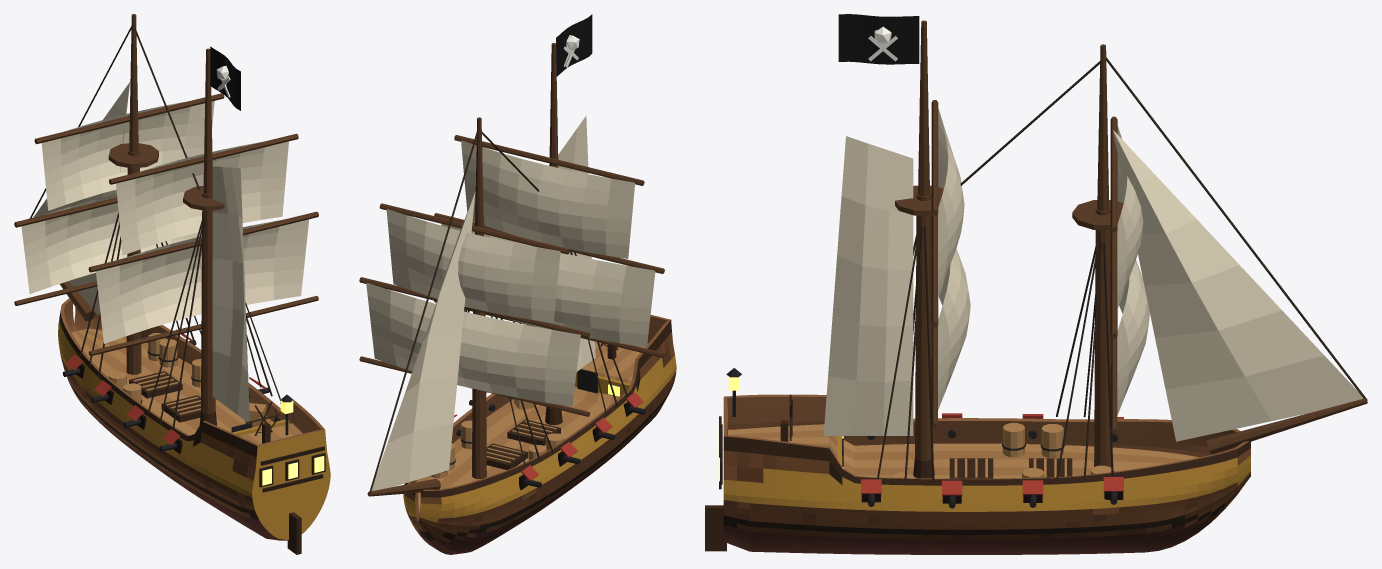
Rendered from brigantine.glb.
The picture shows the model from 3 angles, left to right: view 1: azimuth 30°, elevation 25°; view 2: azimuth 150°, elevation 25°; view 3: azimuth 270°, elevation 25°; orthographic projection. The views are drawn at different scales.
Visible parts, largest first — view 1: Hull, Sail_1_0, Sail_1_1, Sail_0_1, Sail_spanker, Sail_0_0, Sail_jib, Flag; view 2: Hull, Sail_0_0, Sail_1_1, Sail_0_1, Sail_jib, Sail_1_0, Flag, Sail_spanker; view 3: Hull, Sail_jib, Sail_spanker, Flag, Sail_1_0, Sail_1_1, Sail_0_0, Sail_0_1.
Part boxes in pixels (x1=…): Hull: x1=14, y1=14, x2=330, y2=554; Sail_1_0: x1=96, y1=219, x2=309, y2=343; Sail_1_1: x1=116, y1=141, x2=288, y2=255; Sail_0_1: x1=41, y1=101, x2=214, y2=210; Sail_spanker: x1=212, y1=166, x2=249, y2=423; Sail_0_0: x1=21, y1=194, x2=201, y2=293; Sail_jib: x1=33, y1=82, x2=129, y2=317; Flag: x1=210, y1=46, x2=240, y2=110; Hull: x1=359, y1=43, x2=676, y2=554; Sail_0_0: x1=366, y1=282, x2=580, y2=406; Sail_1_1: x1=461, y1=140, x2=634, y2=258; Sail_0_1: x1=386, y1=209, x2=560, y2=323; Sail_jib: x1=371, y1=192, x2=475, y2=490; Sail_1_0: x1=441, y1=223, x2=655, y2=347; Flag: x1=556, y1=14, x2=592, y2=76; Sail_spanker: x1=558, y1=116, x2=595, y2=371; Hull: x1=705, y1=20, x2=1367, y2=554; Sail_jib: x1=1112, y1=130, x2=1363, y2=441; Sail_spanker: x1=823, y1=136, x2=913, y2=435; Flag: x1=838, y1=14, x2=919, y2=64; Sail_1_0: x1=938, y1=248, x2=970, y2=409; Sail_1_1: x1=938, y1=108, x2=964, y2=297; Sail_0_0: x1=1117, y1=260, x2=1149, y2=415; Sail_0_1: x1=1117, y1=125, x2=1143, y2=309.
Size of the model in its own units: 10.22 by 19 by 21.37.
